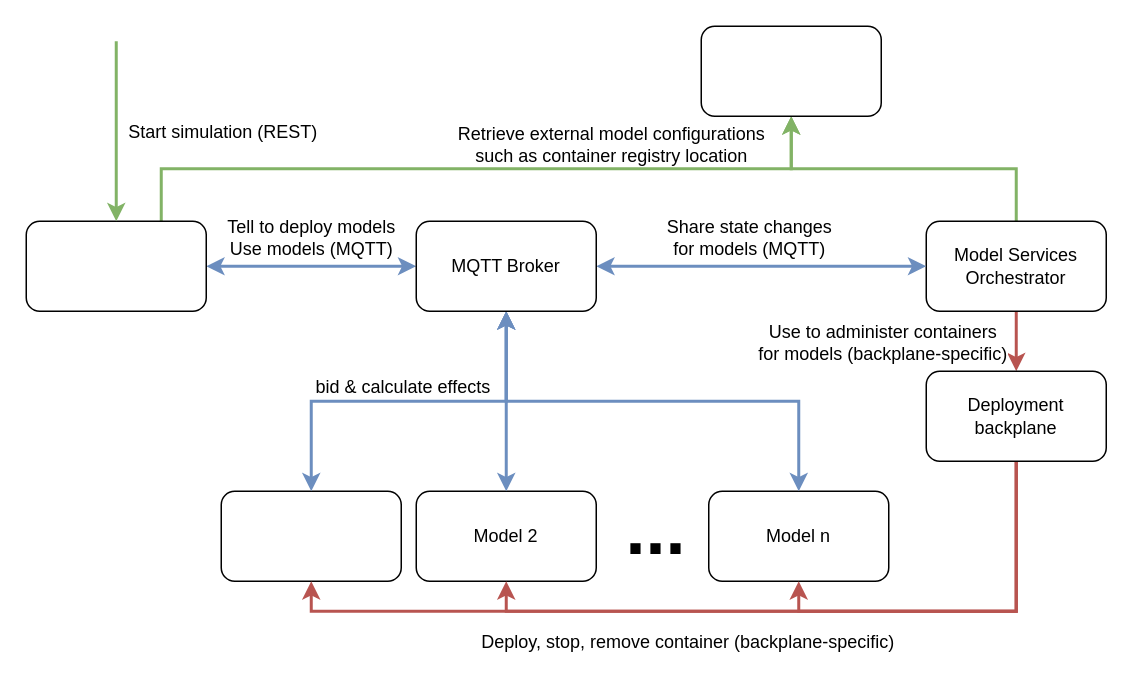
The diagram is 1133 pixels wide and 678 high, and some of its shapes have lost their labels. The centre of each missing label's shape, as x and y in pixels:
"ESSIM" goes at [115,265].
"External Model Registry" goes at [790,70].
"Model 1" goes at [310,535].
